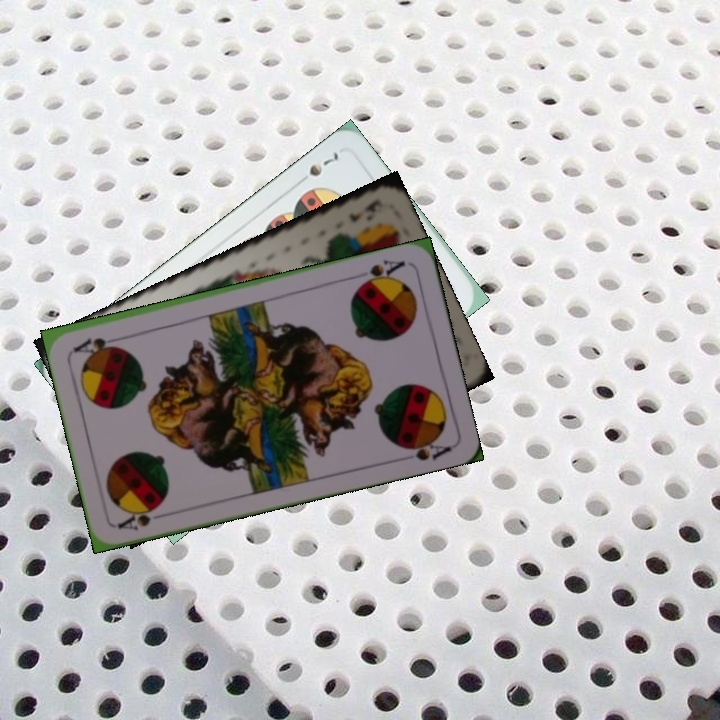EK: (345, 195, 385, 225)
S7: (292, 147, 342, 188)
SA: (113, 500, 172, 534), (354, 256, 408, 289)
